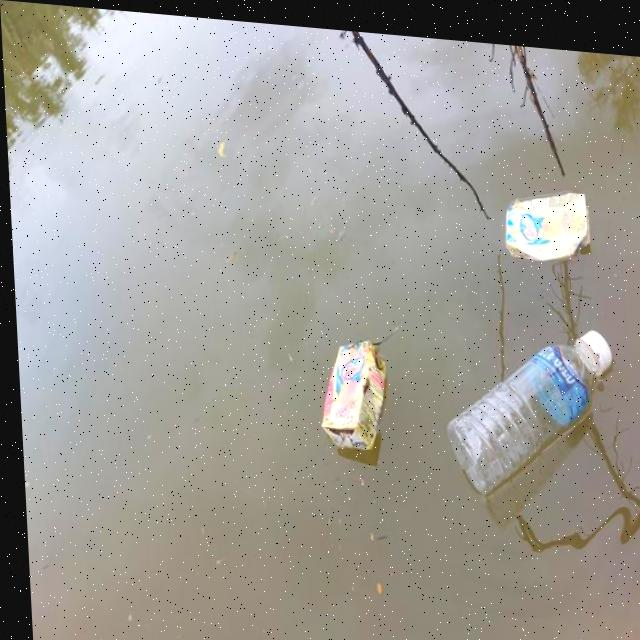paper: (475, 153, 596, 256), (312, 327, 393, 457)
waterbottle: (435, 305, 638, 481)
